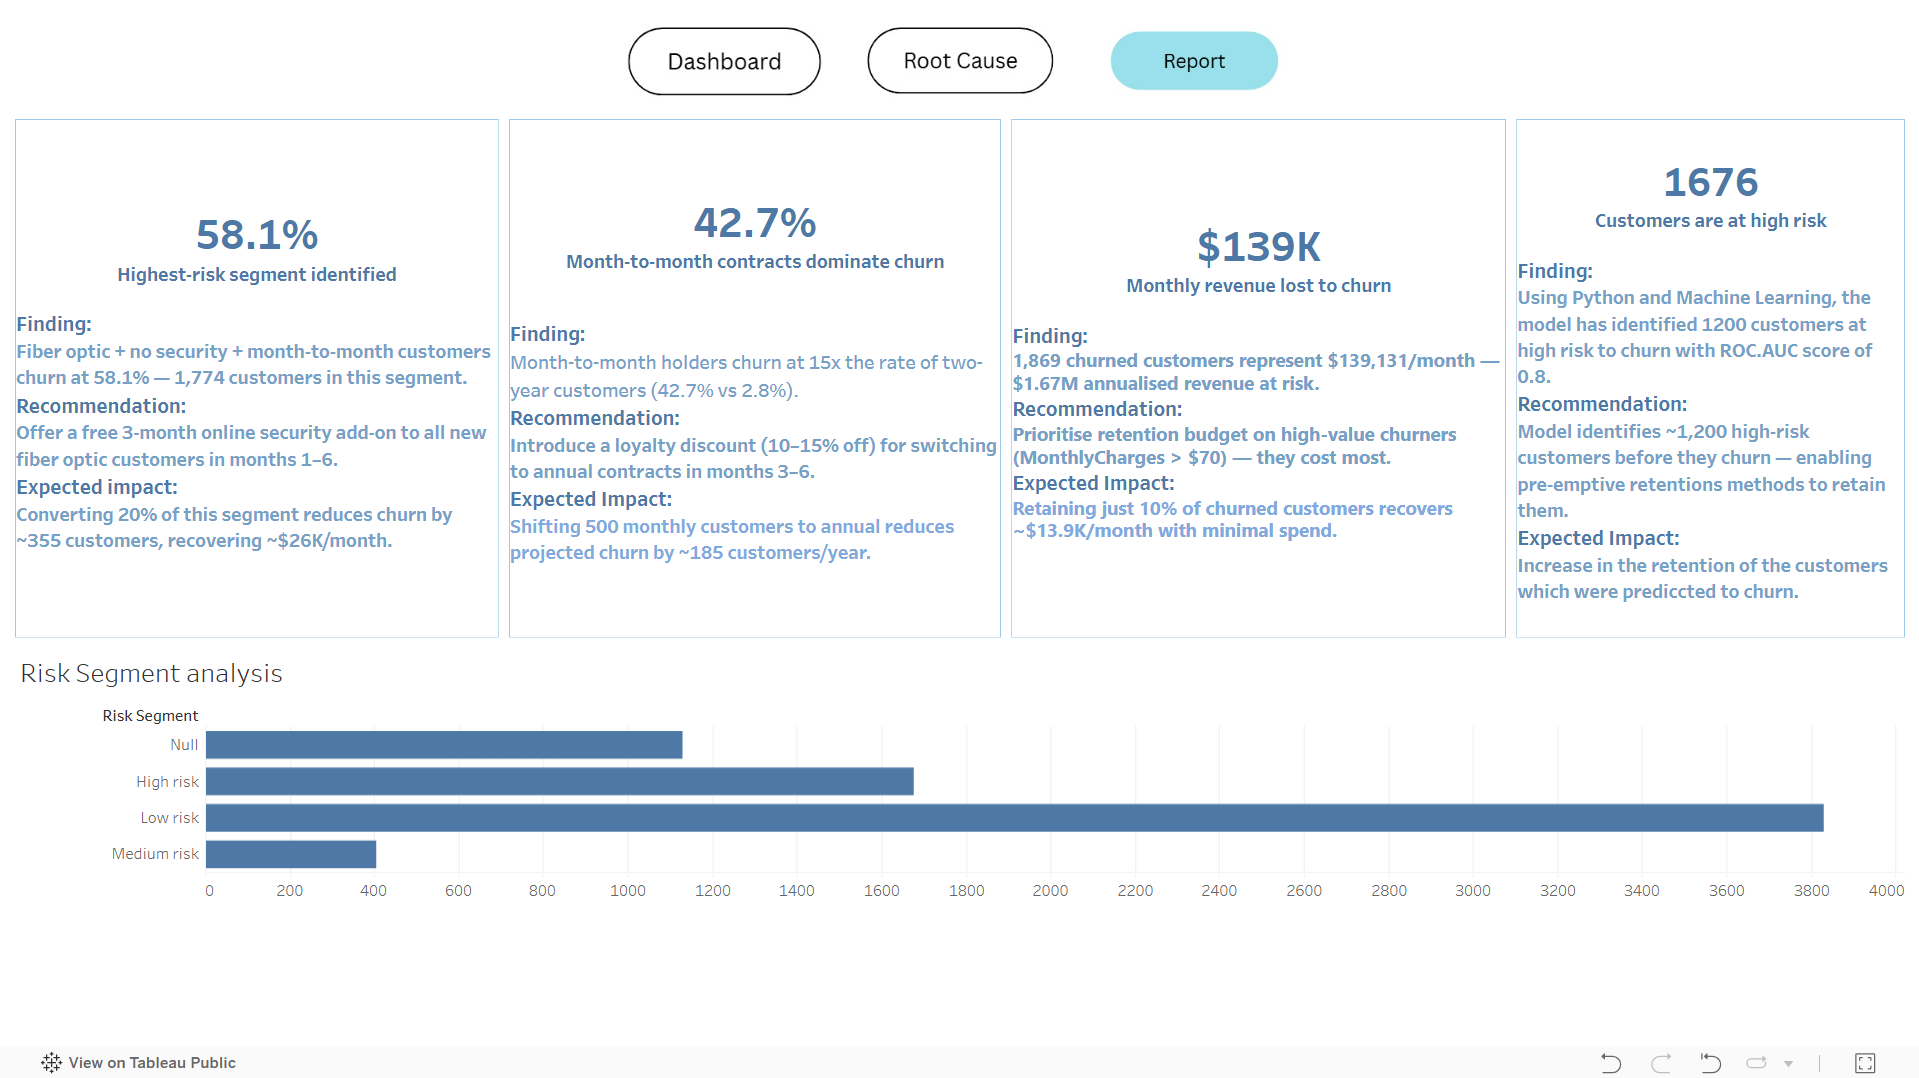

The page's visual inventory and layout, read from the dashboard file:
{"tool":"tableau","page":{"name":"Report","canvas":[1000,1000],"units":"permille","ordinal":1},"visuals":[{"type":"dashboard-object","box":[444.1,6.4,110,99.4]},{"type":"dashboard-object","box":[321.7,12.7,113.5,98.1]},{"type":"dashboard-object","box":[570.7,14,99.9,91.7]},{"type":"text","box":[4.7,109.4,257.2,504.5]},{"type":"text","box":[261.9,109.4,237.7,504.5]},{"type":"text","box":[499.6,109.4,238.9,504.5]},{"type":"text","box":[738.6,109.4,256.7,504.5]},{"type":"worksheet","title":"Sheet 10","mark":"Automatic","rows":["Risk_Segment"],"cols":["customerID"],"box":[4.7,613.9,990.5,375.9]}]}

Visuals, with their boxes on the dashboard's canvas, which has no fixed pixel size, in thousandths of its width and height (x1, y1, x2, y2). These are canvas units, not pixel positions in the 1919x1078 screenshot, which may show the page scaled, cropped or inside an application window:
dashboard-object: Rect(444, 6, 554, 106)
dashboard-object: Rect(322, 13, 435, 111)
dashboard-object: Rect(571, 14, 671, 106)
text: Rect(5, 109, 262, 614)
text: Rect(262, 109, 500, 614)
text: Rect(500, 109, 738, 614)
text: Rect(739, 109, 995, 614)
"Sheet 10" worksheet: Rect(5, 614, 995, 990)
